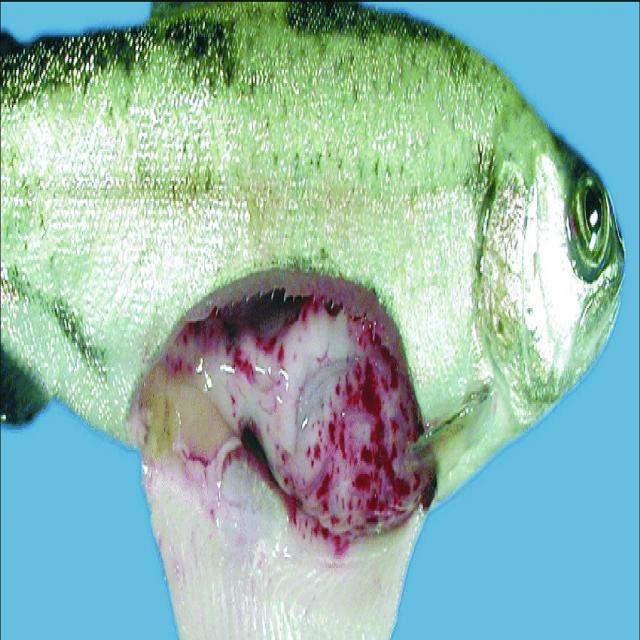EUS Disease: (0, 1, 631, 640), (122, 271, 455, 640)
